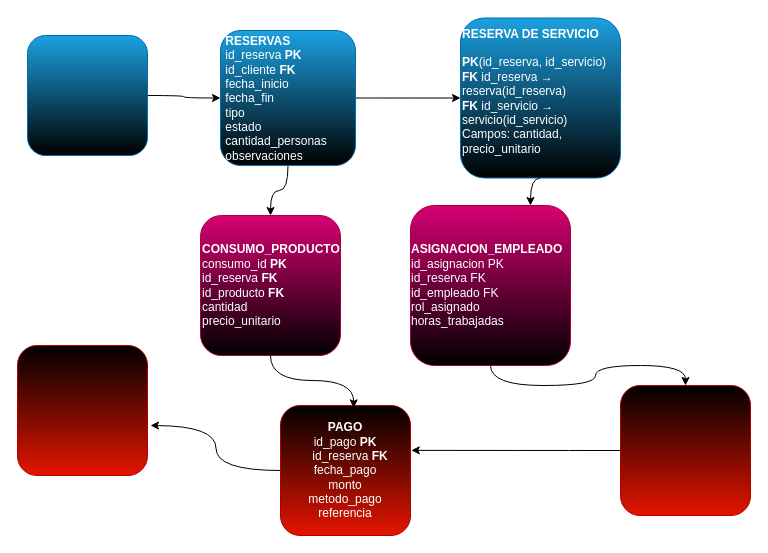
Image size: 768x553. Some labels were removed from this diagram. The box of each missing label's shape, as (x1, y1, x2, y2) in pixels:
CLIENTES id_cliente PK nombre telefono email direccion documento created_at: (26, 34, 148, 156)
EMPLEADO id_empleado PK nombre apellido rol telefono email activo: (620, 384, 750, 516)
PRODUCTO id_producto PK nombre categoria stock unidad precio proveedor: (16, 344, 148, 476)
